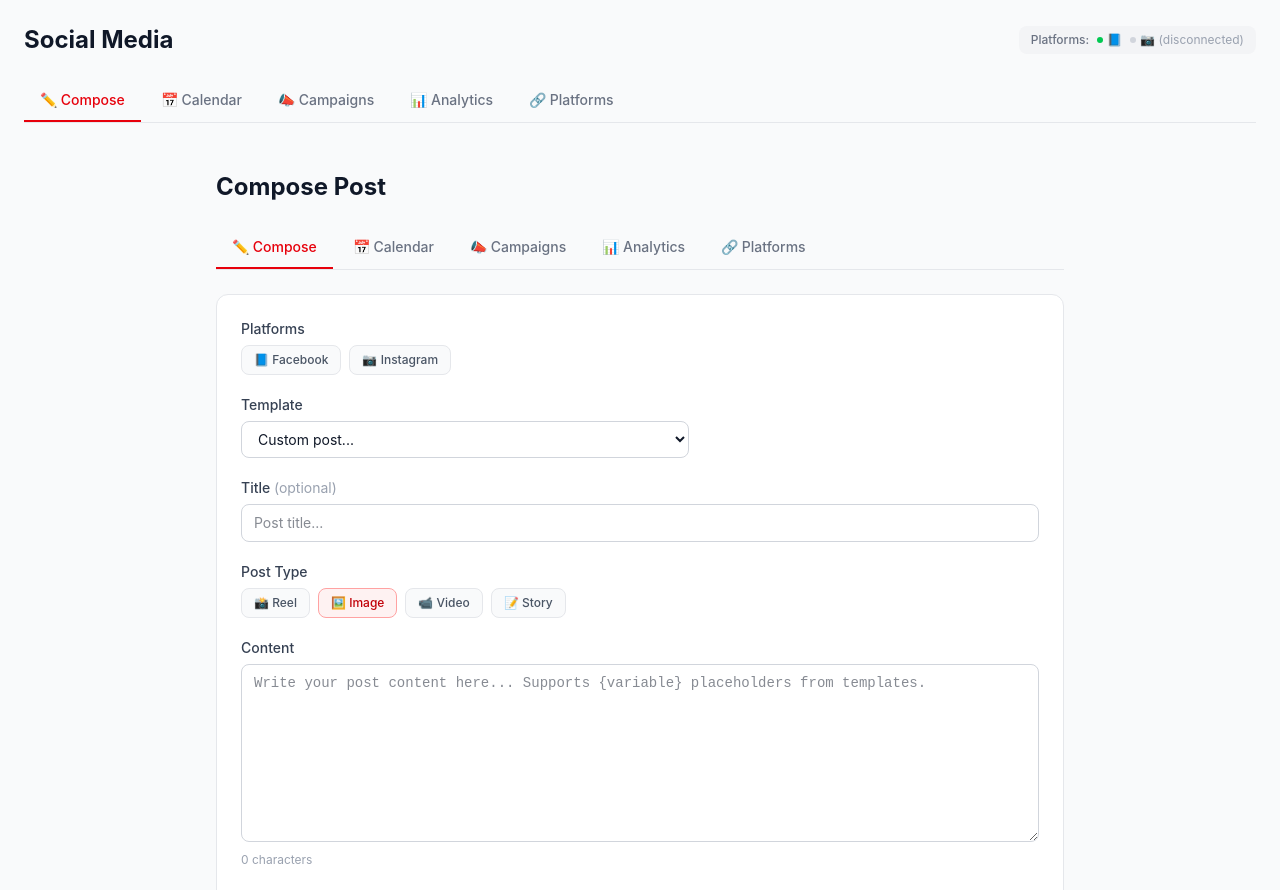
Test case: SocialMedia › Tab Navigation › switches to Analytics tab
This screenshot has width=1280, height=890.
Click the 1st tab "📊 Analytics" at (452, 101), box [394,80,509,122]
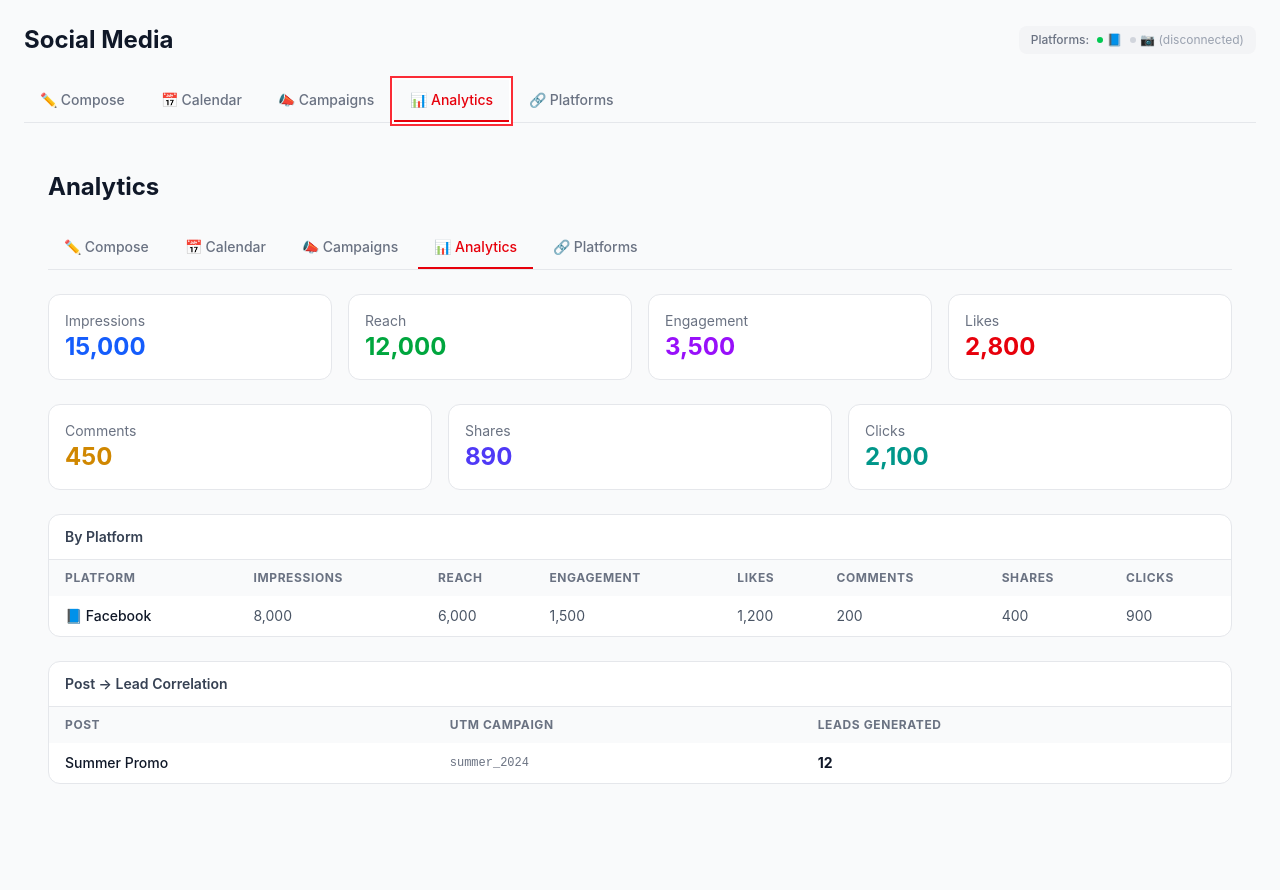
Expected: the heading "Analytics" is shown, [48,172,159,201]
